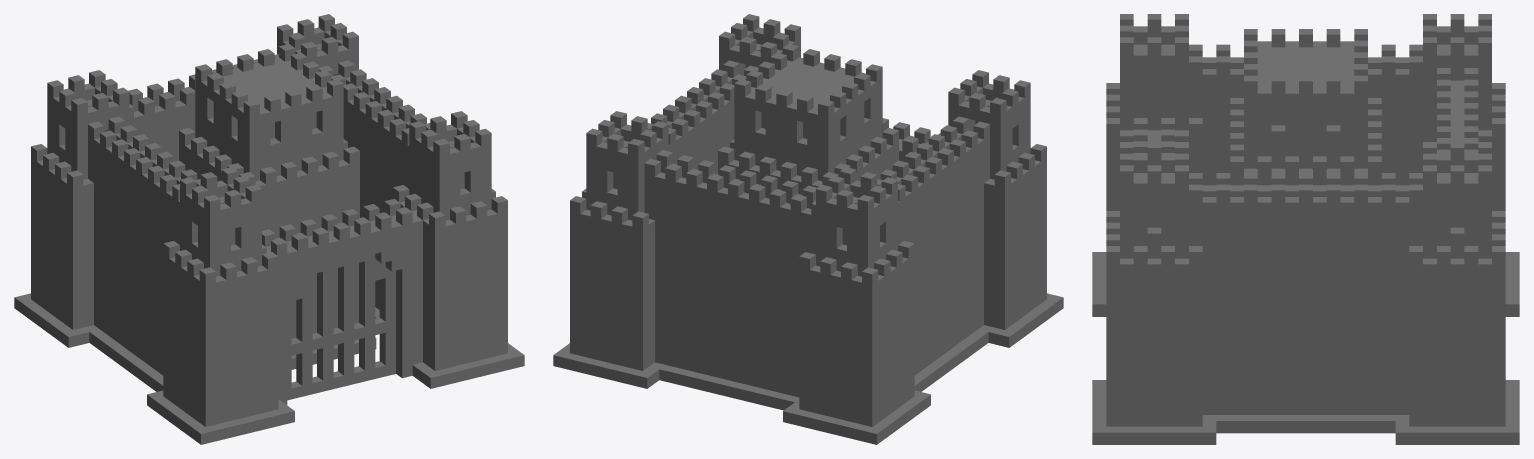
Rendered from Castle.fbx.
3 renders of one model, left to right at view 1: azimuth 30°, elevation 25°; view 2: azimuth 150°, elevation 25°; view 3: azimuth 270°, elevation 25°, orthographic. The views are drawn at different scales.
Visible parts, largest first — view 1: untitled.002; view 2: untitled.002; view 3: untitled.002.
Boxes of the visible parts, x1,y1,x2,y2 form: untitled.002: (14, 14, 524, 444); untitled.002: (553, 14, 1063, 444); untitled.002: (1092, 14, 1519, 444).
Size of the model in its own units: 155 by 120 by 155.
